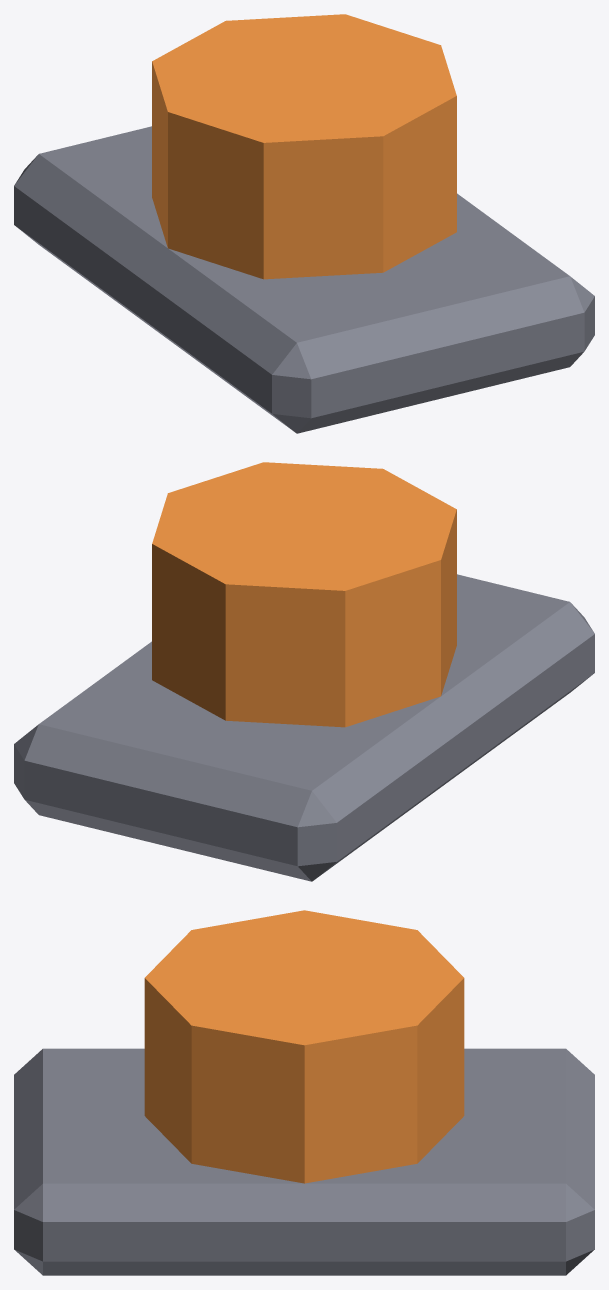
The model's file is RoofBeacon.fbx.
3 views of the same model, one above another, from view 1: azimuth 30°, elevation 25°; view 2: azimuth 150°, elevation 25°; view 3: azimuth 270°, elevation 25° (orthographic).
Parts seen in each view (by area): view 1: beacon; view 2: beacon; view 3: beacon.
Boxes of the visible parts, <box> form: beacon: <box>14,14,594,433</box>; beacon: <box>14,462,594,881</box>; beacon: <box>14,910,594,1275</box>.
Bounding box in the file's own units: 0.26 × 0.175 × 0.4.
